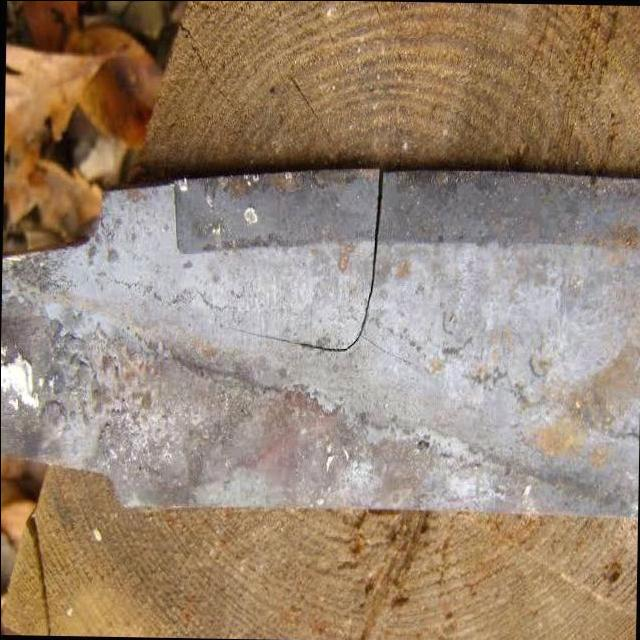defect: (226, 171, 383, 357)
